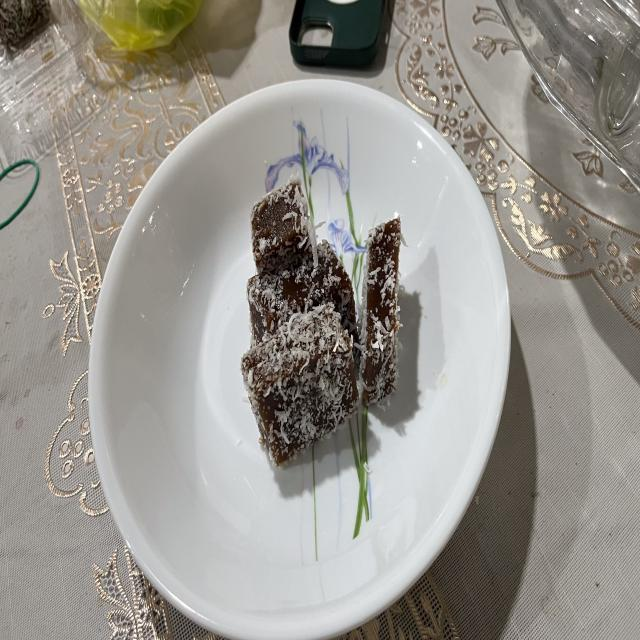kaswi: (241, 304, 359, 464), (248, 240, 358, 344), (359, 218, 401, 404), (251, 178, 318, 273)
